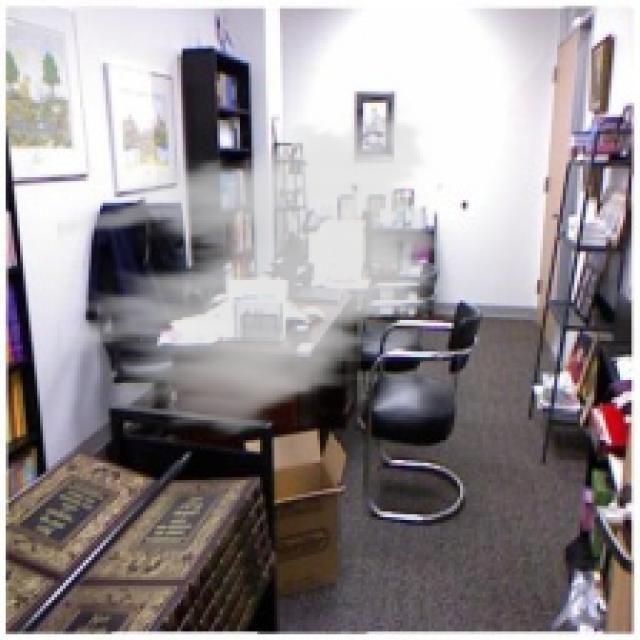Smoke: (57, 97, 457, 446)
